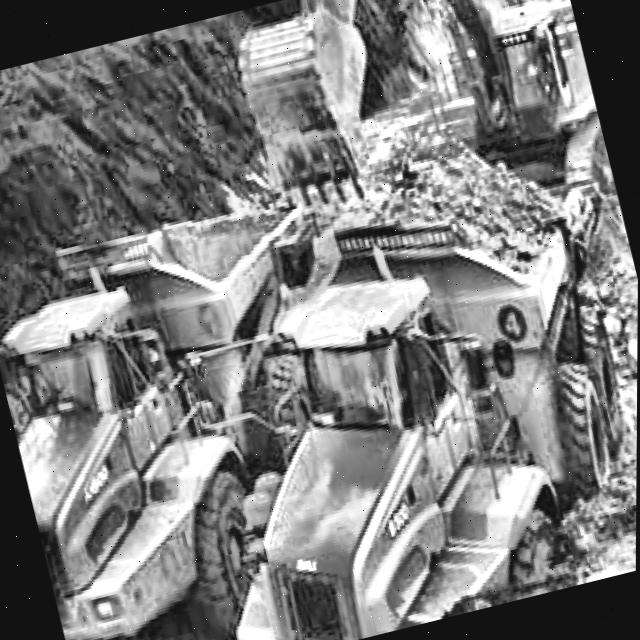dump_truck: (123, 164, 639, 640), (0, 173, 331, 640)
excavator: (209, 0, 610, 249)
